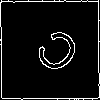C: (25, 25, 84, 84)
